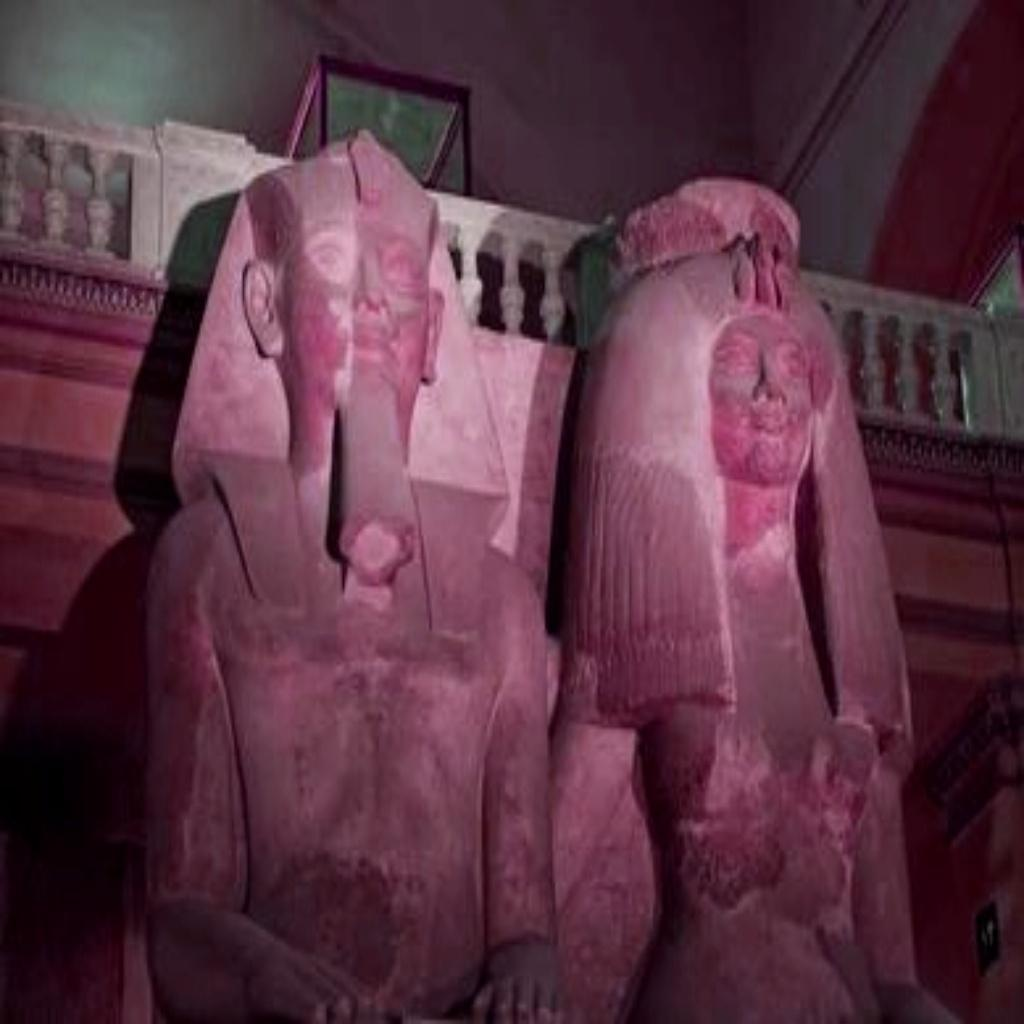Amenhotep III and Tiye: (137, 126, 927, 1020)
